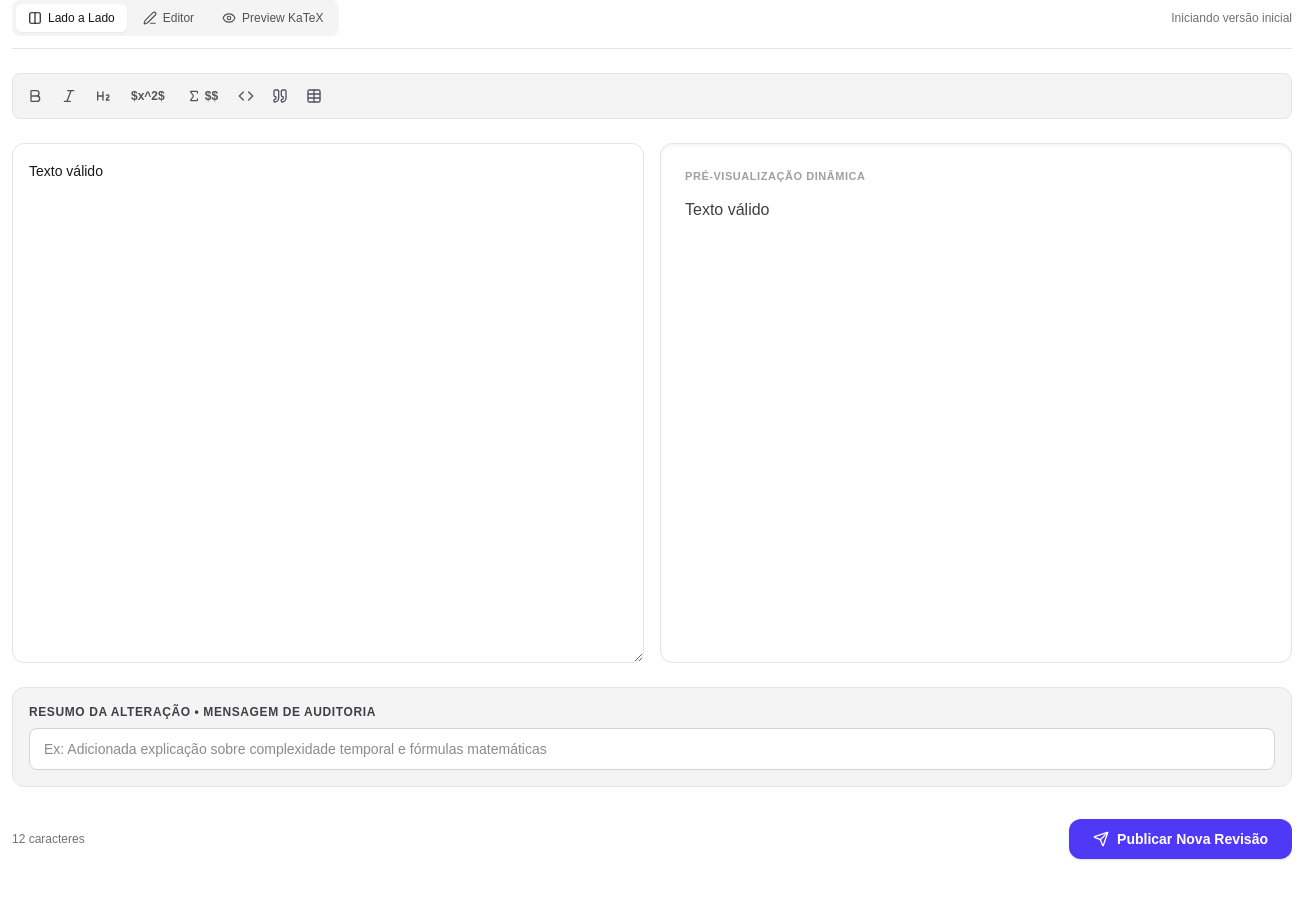
Test: MaterialEditor Component › validates empty summary on submission
Click the button "Publicar Nova Revisão".
click(1180, 839)  # box [1069,819,1292,859]
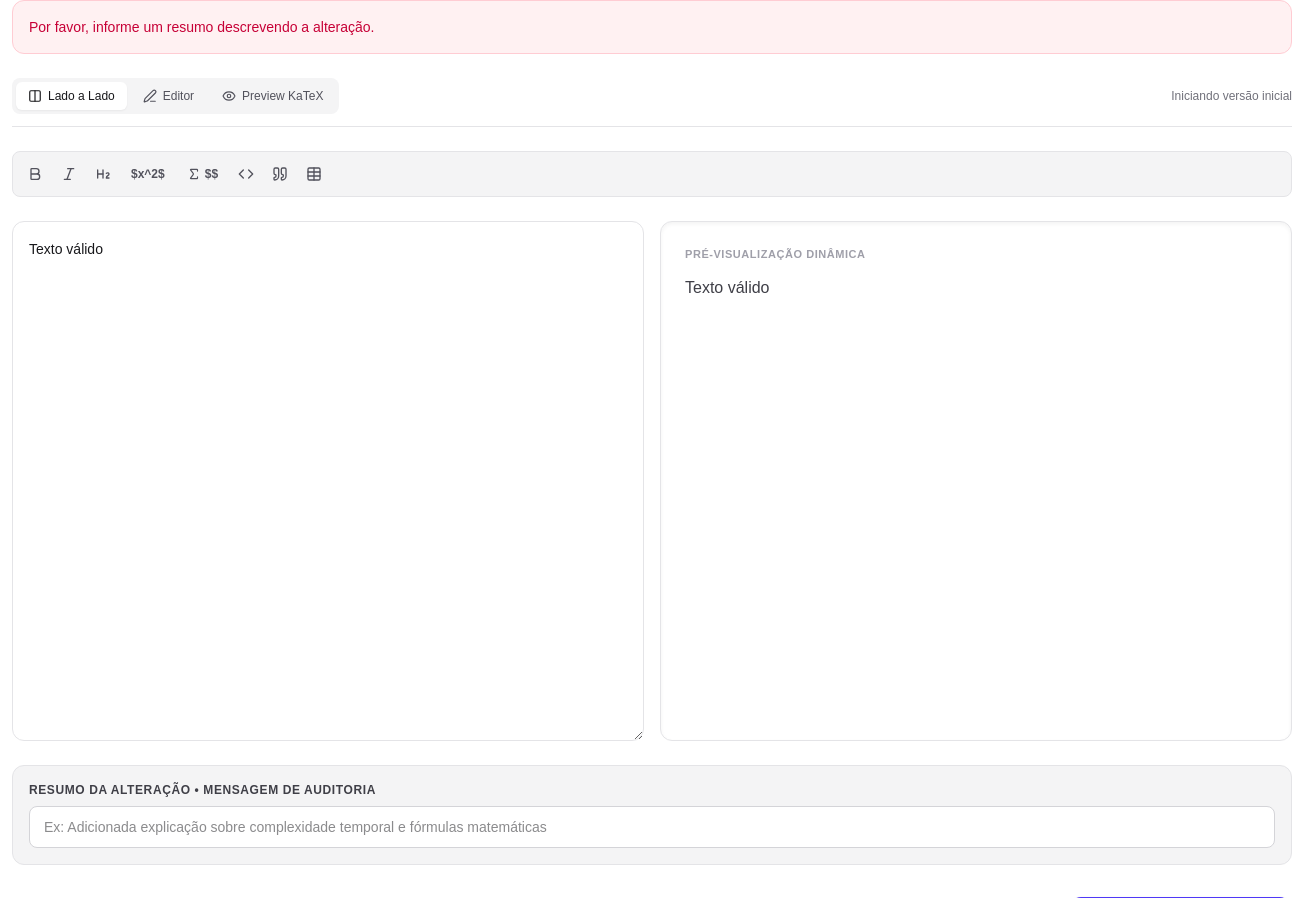
Check: the text "Por favor, informe um resumo descrevendo a alteração." is shown, box [12,0,1292,54]
